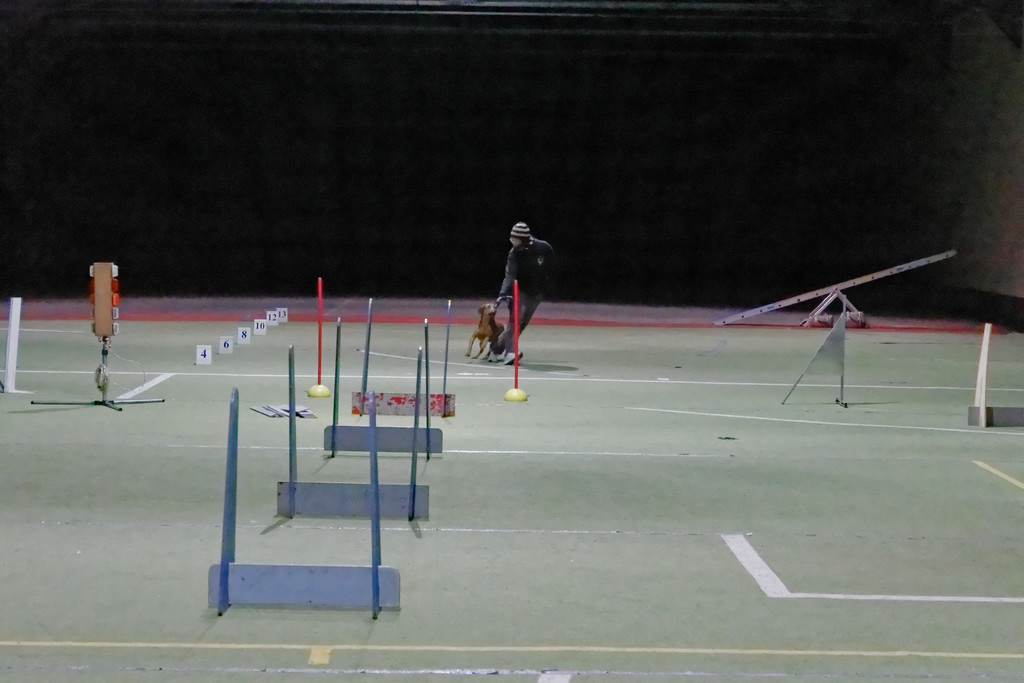Person: (487, 221, 556, 365)
